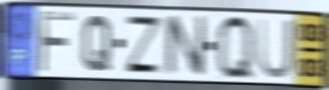F: (35, 8, 77, 75)
N: (163, 13, 209, 79)
Q: (215, 13, 257, 84), (80, 14, 114, 74)
U: (257, 16, 296, 81)
Z: (123, 14, 164, 76)
